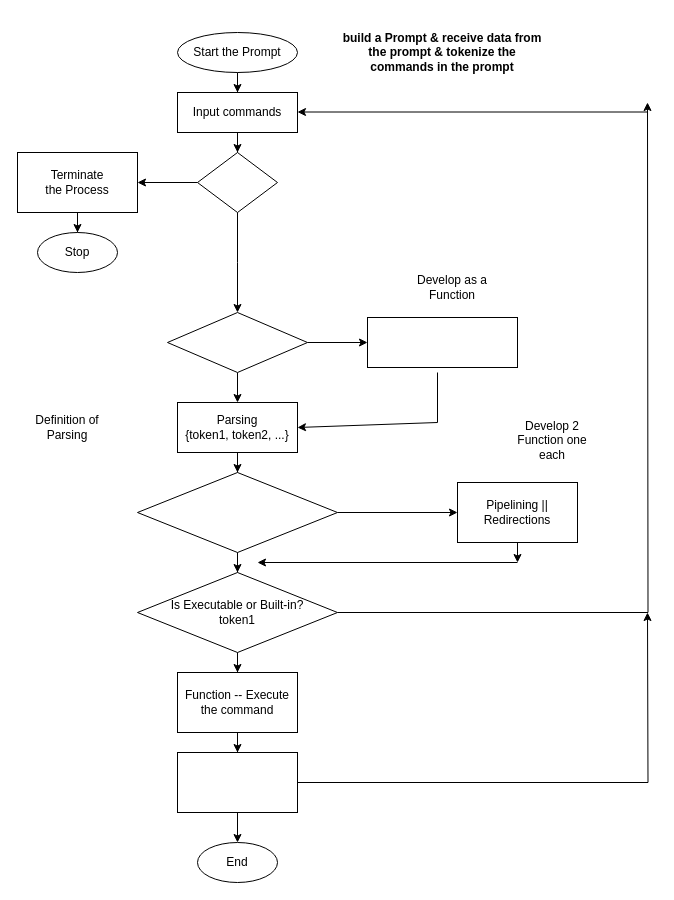
Image size: 674x900. Some labels were removed from this diagram. The shapes that lost their labels are listed below. From the top down, each one's centre as x and y in pixels, then its label:
At [237,182]: "Is exit?".
At [237,342]: "Is it a wildcard ?".
At [442,342]: "Wildcard globalization".
At [237,512]: "Has Pipelines or Redirections I or > or >>".
At [237,782]: "Display the Output".
